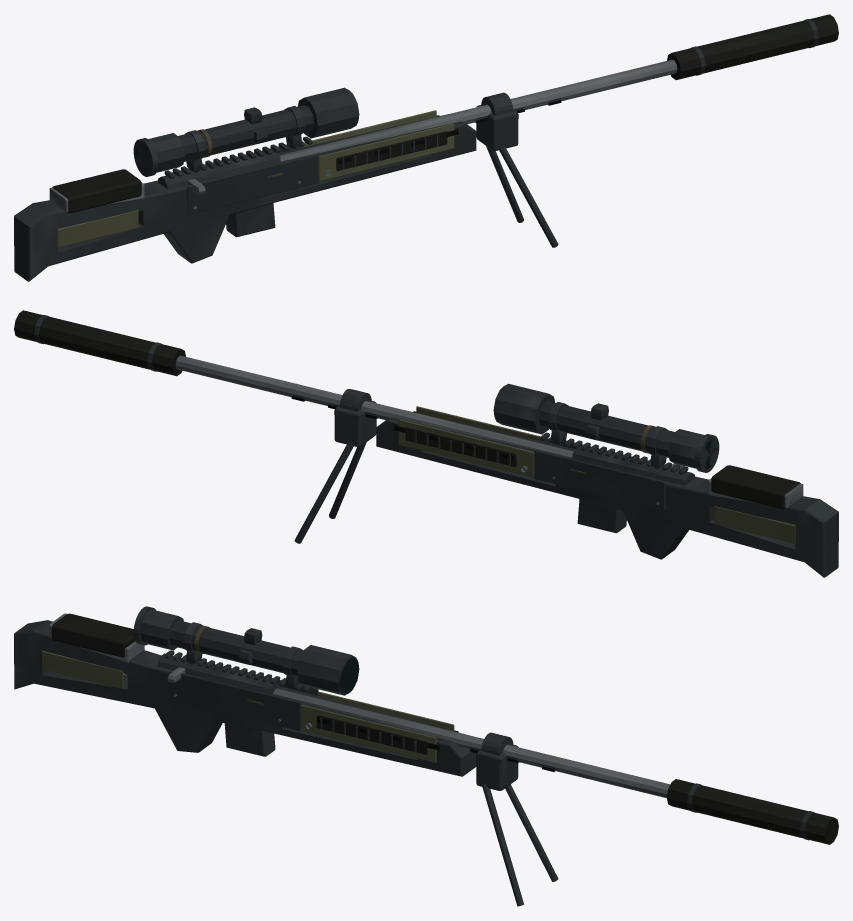
Rendered from msr.glb.
The picture shows the model from 3 angles, top to bottom: view 1: azimuth 30°, elevation 25°; view 2: azimuth 150°, elevation 25°; view 3: azimuth 330°, elevation 25°; orthographic projection.
Parts seen in each view (by area): view 1: msr_premium; view 2: msr_premium; view 3: msr_premium.
Boxes of the visible parts, x1,y1,x2,y2 form: msr_premium: (14, 14, 838, 281); msr_premium: (14, 310, 838, 577); msr_premium: (14, 606, 838, 906).
Size of the model in its own units: 1.79 by 0.409 by 0.1454.
Materials: 8 (8 with a texture image).
